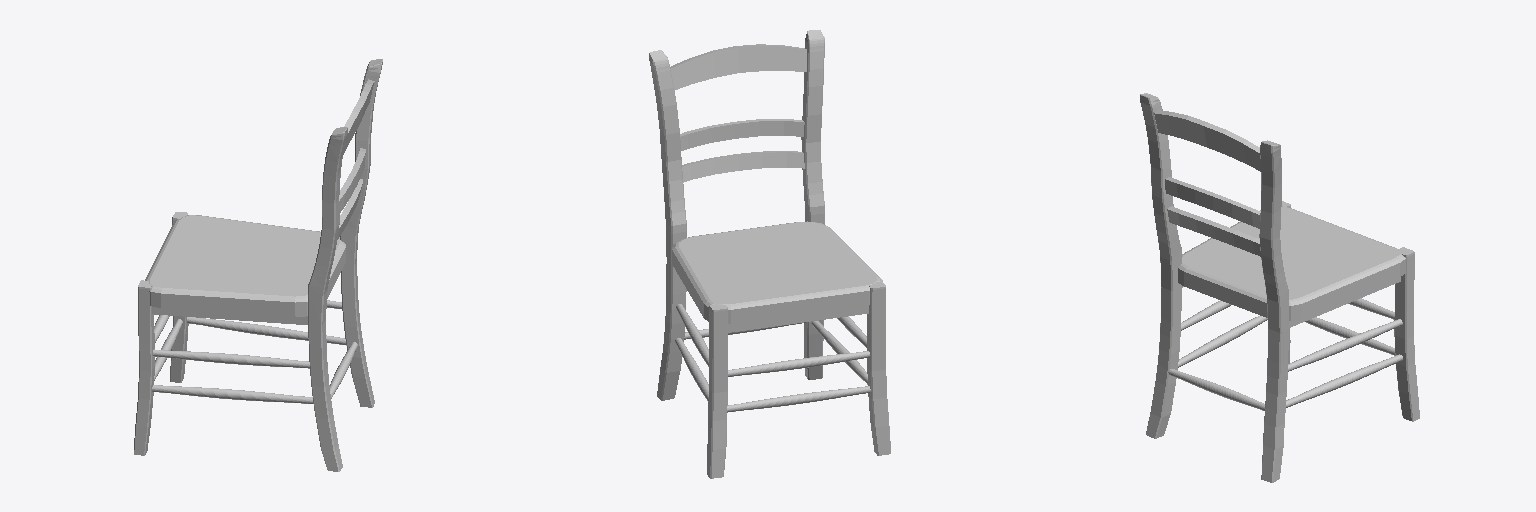
File: krzeslo2.obj
3 renders of one model, left to right at view 1: azimuth 30°, elevation 25°; view 2: azimuth 150°, elevation 25°; view 3: azimuth 270°, elevation 25°, orthographic.
Parts seen in each view (by area): view 1: Cube.015_Cube.017; view 2: Cube.015_Cube.017; view 3: Cube.015_Cube.017.
Boxes of the visible parts, x1,y1,x2,y2 form: Cube.015_Cube.017: [134, 59, 382, 471]; Cube.015_Cube.017: [649, 30, 890, 478]; Cube.015_Cube.017: [1140, 93, 1419, 482].
Bounding box in the file's own units: 0.653 × 0.8706 × 0.6466.